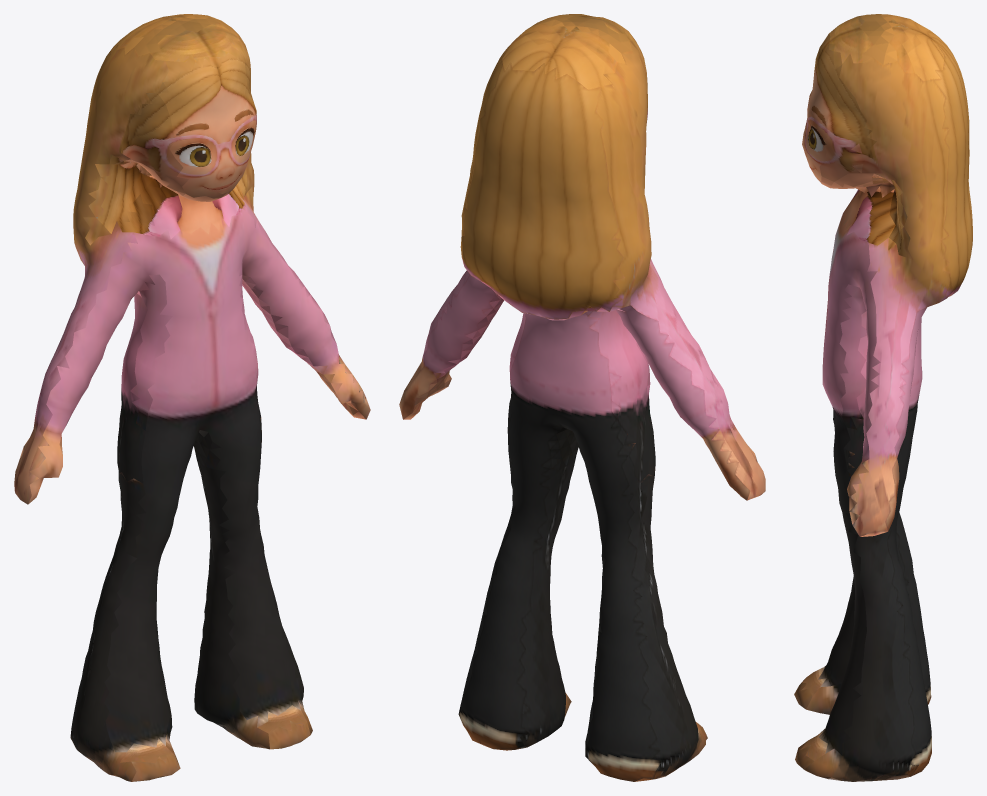
The model's file is vivienne-toon-x5.glb.
3 renders of one model, left to right at view 1: azimuth 30°, elevation 25°; view 2: azimuth 150°, elevation 25°; view 3: azimuth 270°, elevation 25°, orthographic. The views are drawn at different scales.
Visible parts, largest first — view 1: world; view 2: world; view 3: world.
Boxes of the visible parts, x1,y1,x2,y2 form: world: (14, 14, 370, 781); world: (399, 14, 765, 781); world: (794, 14, 972, 781).
Size of the model in its own units: 2.39 by 4.75 by 1.07.
1 material, 1 textured.
